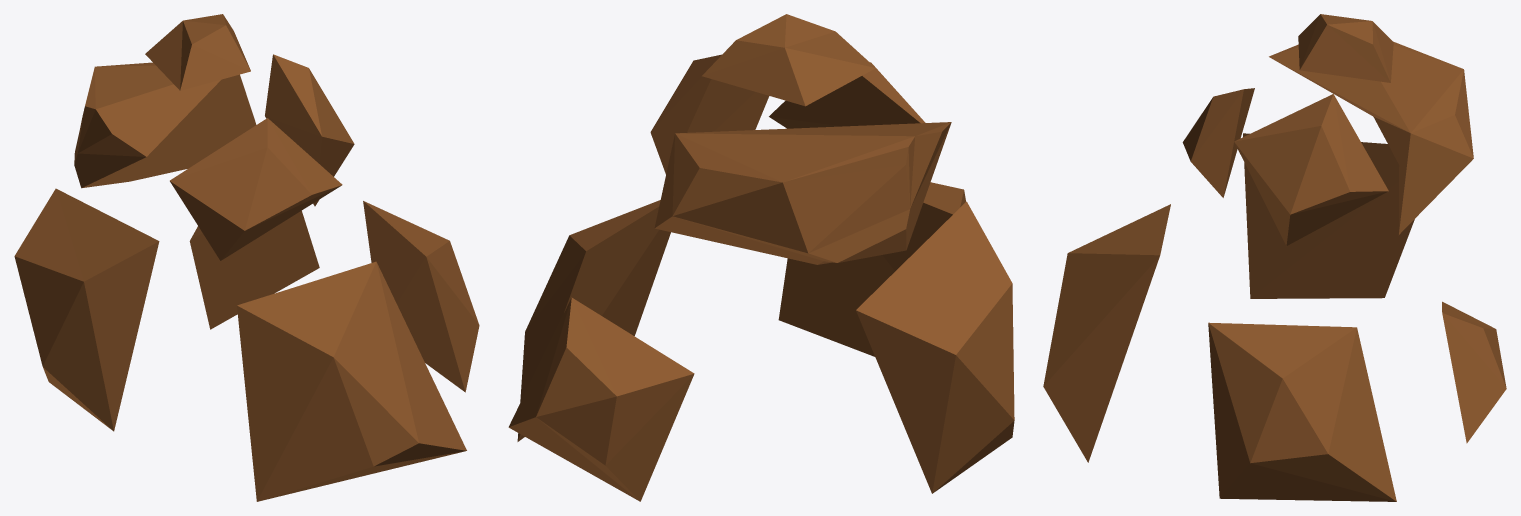
The model's file is CopperOreC.fbx.
3 views of the same model, side by side, from view 1: azimuth 30°, elevation 25°; view 2: azimuth 150°, elevation 25°; view 3: azimuth 270°, elevation 25° (orthographic). The views are drawn at different scales.
Parts seen in each view (by area): view 1: CopperOreC; view 2: CopperOreC; view 3: CopperOreC.
Boxes of the visible parts, x1,y1,x2,y2 form: CopperOreC: (14, 14, 479, 501); CopperOreC: (508, 14, 1014, 501); CopperOreC: (1043, 14, 1506, 501).
Bounding box in the file's own units: 44.26 × 40.19 × 43.3.
